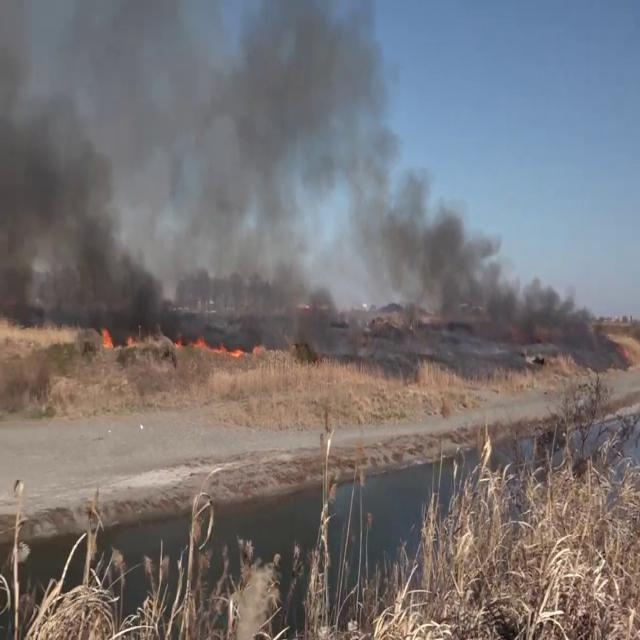Fire: (99, 316, 115, 352)
Smoke: (163, 0, 614, 345), (0, 0, 162, 323)
